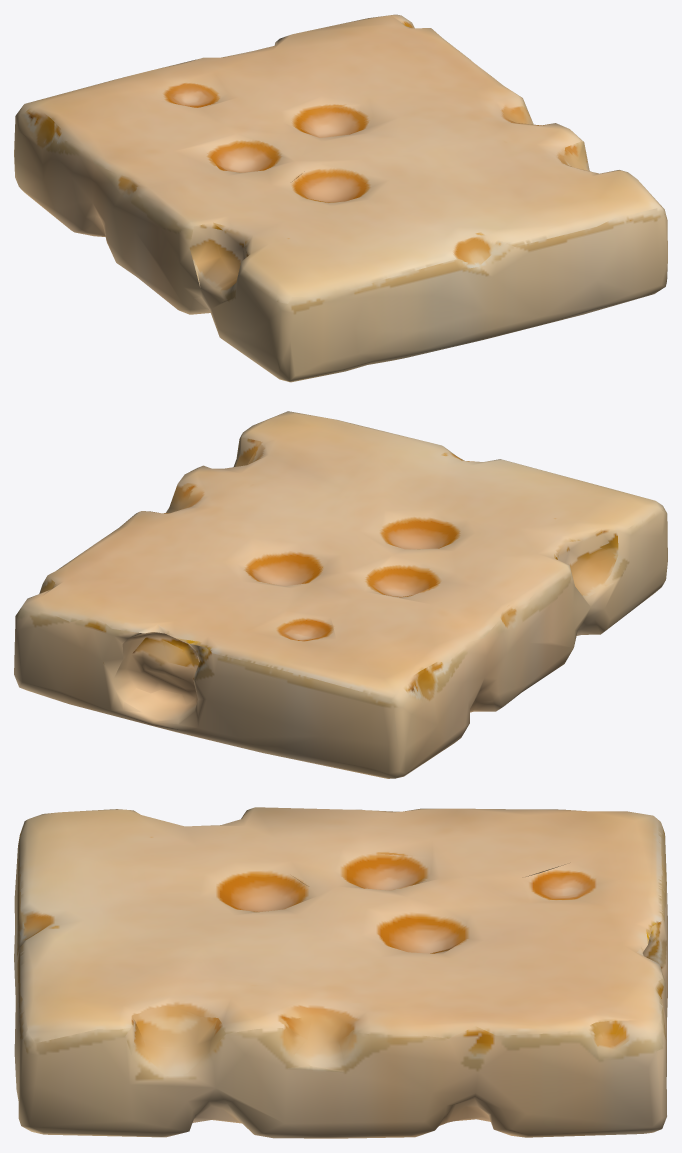
Rendered from Food_CheeseSlice.fbx.
3 views of the same model, one above another, from view 1: azimuth 30°, elevation 25°; view 2: azimuth 150°, elevation 25°; view 3: azimuth 270°, elevation 25° (orthographic). The views are drawn at different scales.
Parts seen in each view (by area): view 1: Food_CheeseSlice; view 2: Food_CheeseSlice; view 3: Food_CheeseSlice.
Boxes of the visible parts, x1=… form: Food_CheeseSlice: x1=14, y1=14, x2=667, y2=382; Food_CheeseSlice: x1=14, y1=411, x2=667, y2=778; Food_CheeseSlice: x1=14, y1=807, x2=667, y2=1138.
Size of the model in its own units: 0.215 by 0.0552 by 0.2598.
1 material, 1 textured.
